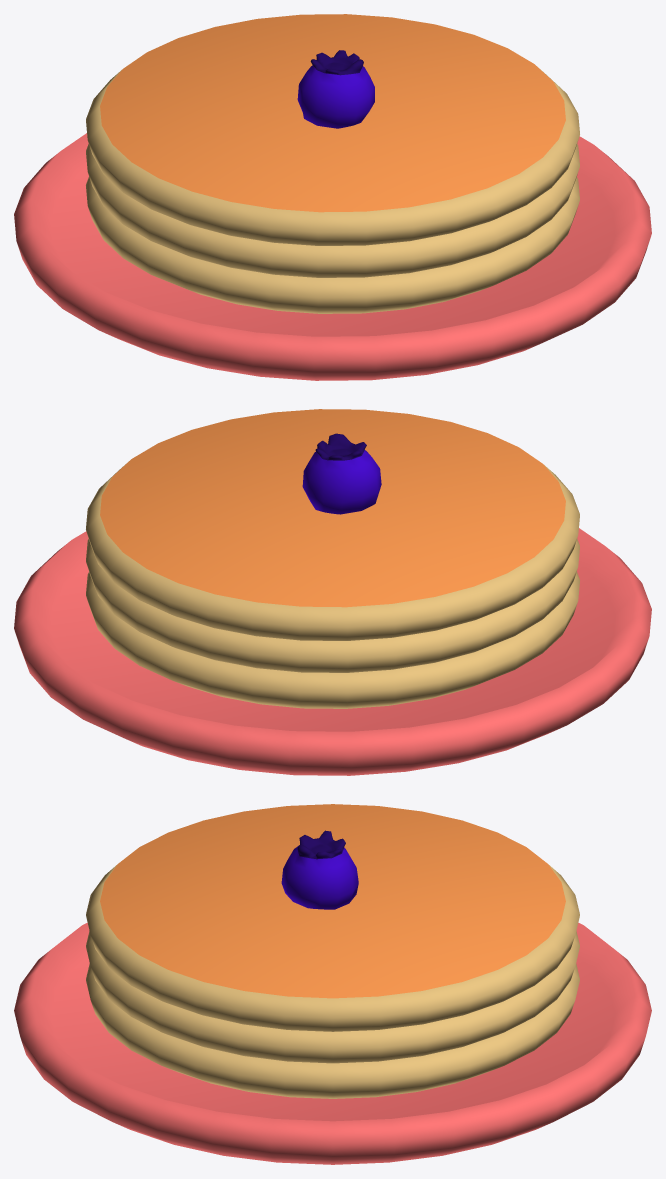
The model's file is Pancake.fbx.
3 renders of one model, top to bottom at view 1: azimuth 30°, elevation 25°; view 2: azimuth 150°, elevation 25°; view 3: azimuth 270°, elevation 25°, orthographic.
Visible parts, largest first — view 1: Sphere.002, Sphere.009, Sphere.007, Sphere.001, Blueberries.002; view 2: Sphere.002, Sphere.009, Sphere.007, Sphere.001, Blueberries.002; view 3: Sphere.002, Sphere.009, Sphere.007, Sphere.001, Blueberries.002.
Part boxes in pixels (x1,y1,x2,y2): Sphere.002: (86, 14, 579, 245); Sphere.009: (14, 133, 651, 380); Sphere.007: (86, 176, 579, 313); Sphere.001: (86, 144, 579, 277); Blueberries.002: (297, 50, 374, 128); Sphere.002: (86, 409, 579, 640); Sphere.009: (14, 528, 651, 775); Sphere.007: (86, 571, 579, 708); Sphere.001: (86, 539, 579, 672); Blueberries.002: (302, 433, 381, 514); Sphere.002: (86, 804, 579, 1031); Sphere.009: (14, 922, 651, 1164); Sphere.007: (86, 963, 579, 1098); Sphere.001: (86, 931, 579, 1063); Blueberries.002: (281, 830, 358, 909).
Bounding box in the file's own units: 236 × 84.51 × 240.
